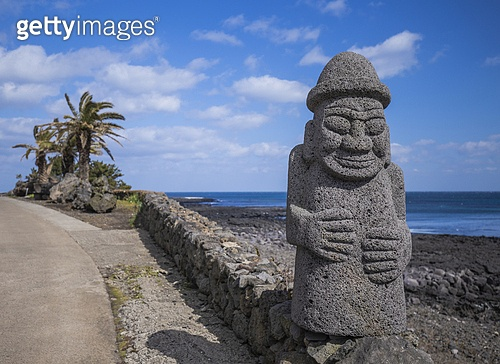Stone Statue: (275, 45, 428, 358)
